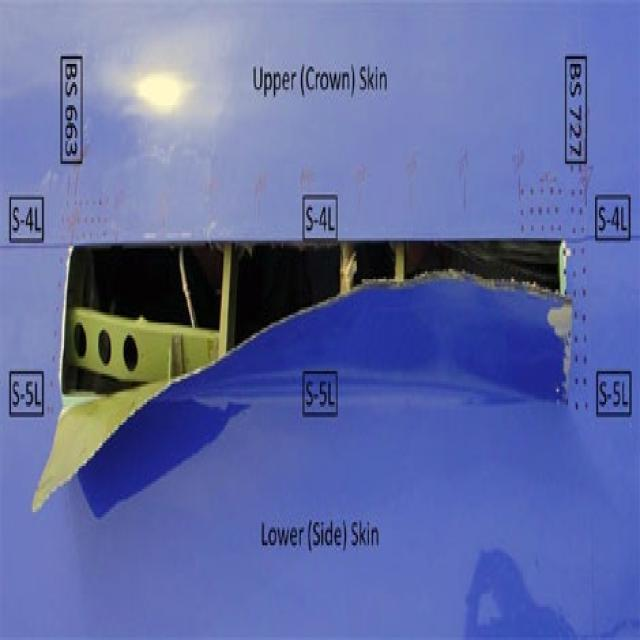crack: (27, 232, 572, 522)
